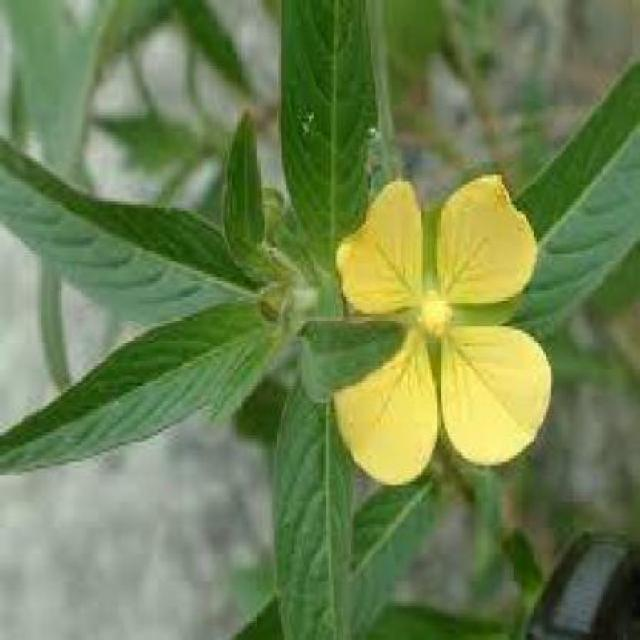flower: (330, 171, 558, 478)
